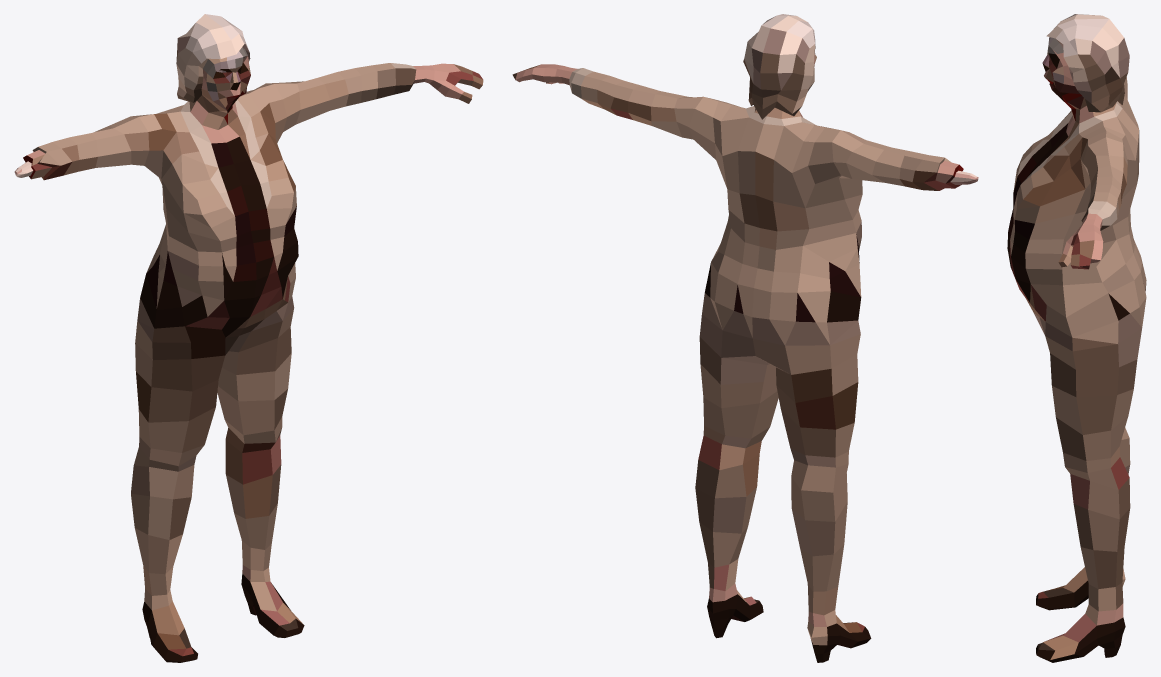
The model's file is lpFemale_zombie_D-model.fbx.
3 renders of one model, left to right at view 1: azimuth 30°, elevation 25°; view 2: azimuth 150°, elevation 25°; view 3: azimuth 270°, elevation 25°, orthographic.
Visible parts, largest first — view 1: lpFemale_zombie_D; view 2: lpFemale_zombie_D; view 3: lpFemale_zombie_D.
Part boxes in pixels (<box>): lpFemale_zombie_D: <box>14,14,483,662</box>; lpFemale_zombie_D: <box>512,14,978,662</box>; lpFemale_zombie_D: <box>1007,14,1146,662</box>.
Size of the model in its own units: 128 by 162 by 33.28.
1 material, 1 textured.
